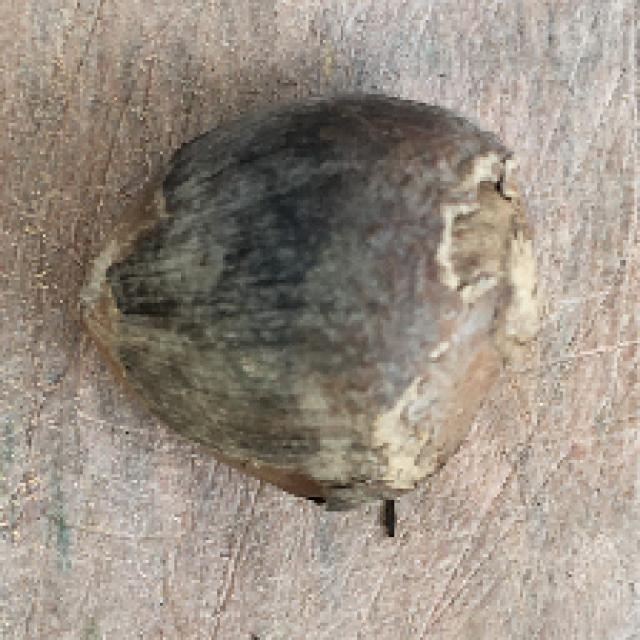damagedHazelnut: (66, 89, 537, 518)
